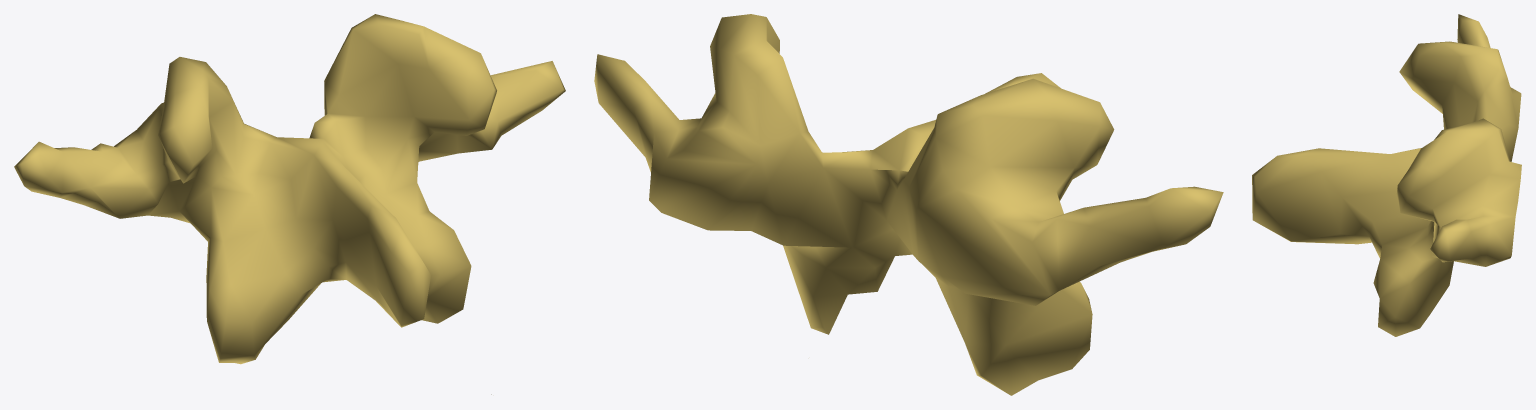
The picture shows the model from 3 angles, left to right: view 1: azimuth 30°, elevation 25°; view 2: azimuth 150°, elevation 25°; view 3: azimuth 270°, elevation 25°; orthographic projection. The views are drawn at different scales.
Parts seen in each view (by area): view 1: L4vertebra; view 2: L4vertebra; view 3: L4vertebra.
Boxes of the visible parts, <box> form: L4vertebra: <box>14,14,565,394</box>; L4vertebra: <box>594,14,1223,395</box>; L4vertebra: <box>1252,14,1521,336</box>.
Bounding box in the file's own units: 9.38 × 5.54 × 5.2.
